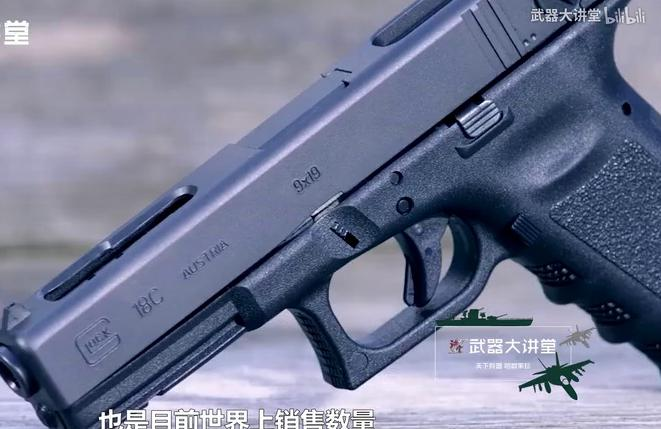gun: (1, 1, 661, 429)
